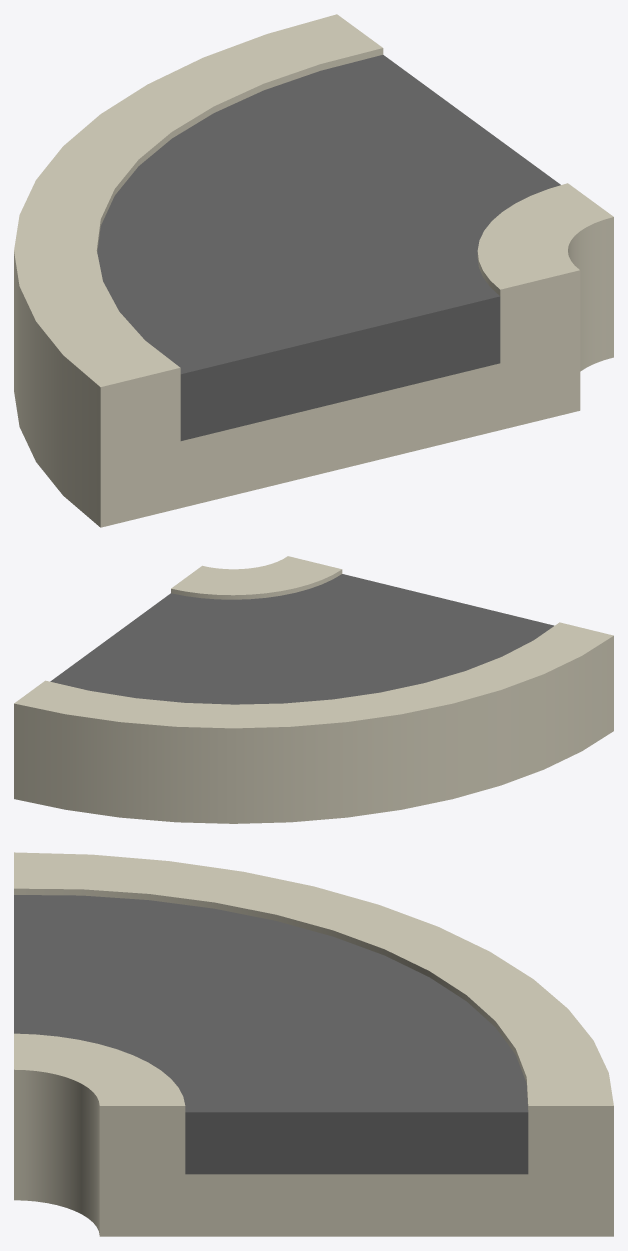
Rendered from tile107.dae.
3 renders of one model, top to bottom at view 1: azimuth 30°, elevation 25°; view 2: azimuth 150°, elevation 25°; view 3: azimuth 270°, elevation 25°, orthographic. The views are drawn at different scales.
Parts seen in each view (by area): view 1: tile107; view 2: tile107; view 3: tile107.
Boxes of the visible parts, <box> form: tile107: <box>14,14,613,527</box>; tile107: <box>14,556,613,823</box>; tile107: <box>14,852,613,1236</box>.
Size of the model in its own units: 0.875 by 0.21 by 0.875.
